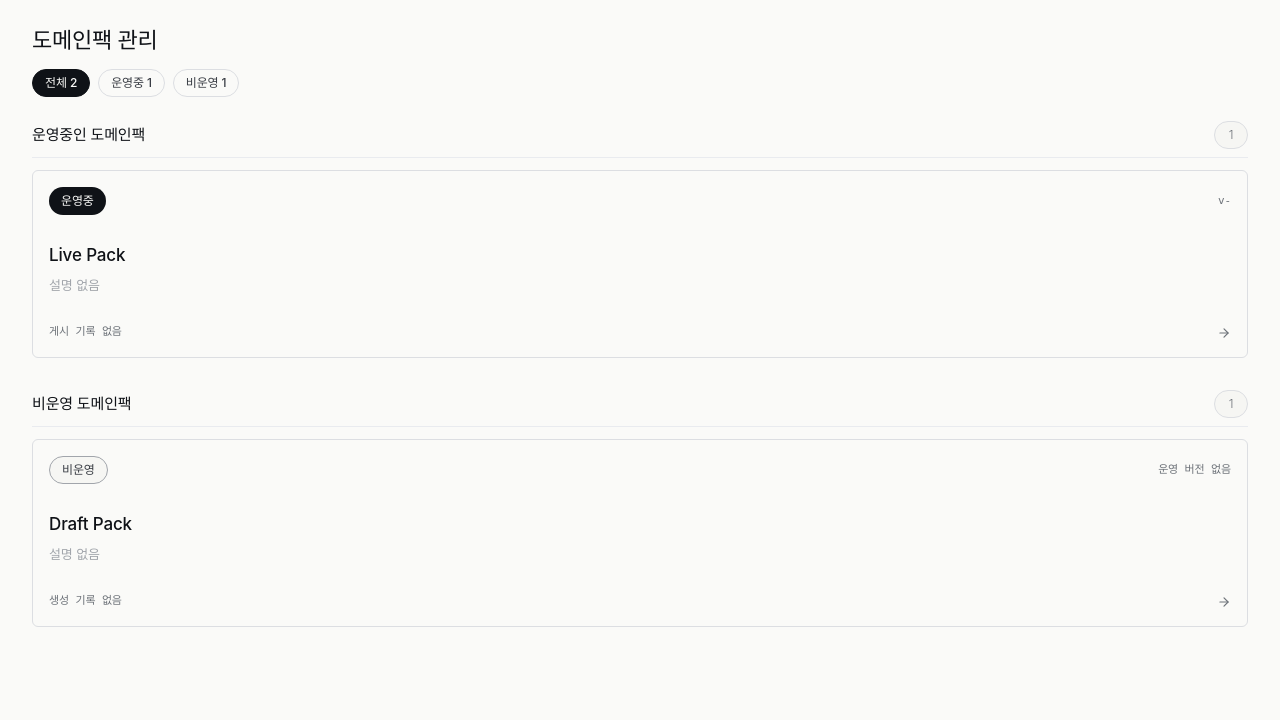
Test case: DomainPackListPage › 운영중 필터를 선택하면 운영중 도메인팩만 표시한다
What coordinates should you click on to do the following:
click the button "운영중 1"
I would click on:
 (131, 83)
Its box is [98,69,165,97].
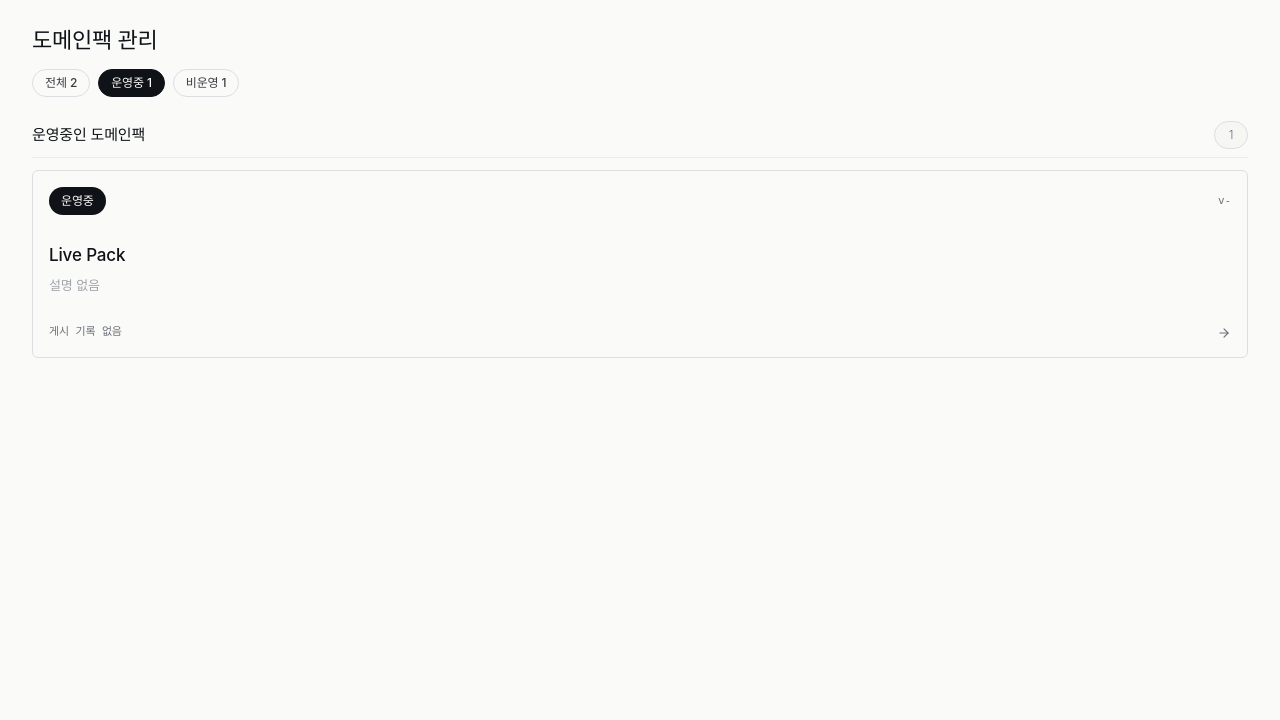
Expected: the heading "Live Pack" is shown, [49,245,125,265]
Now the link "Draft Pack" is gone
Now the heading "비운영 도메인팩" is gone
